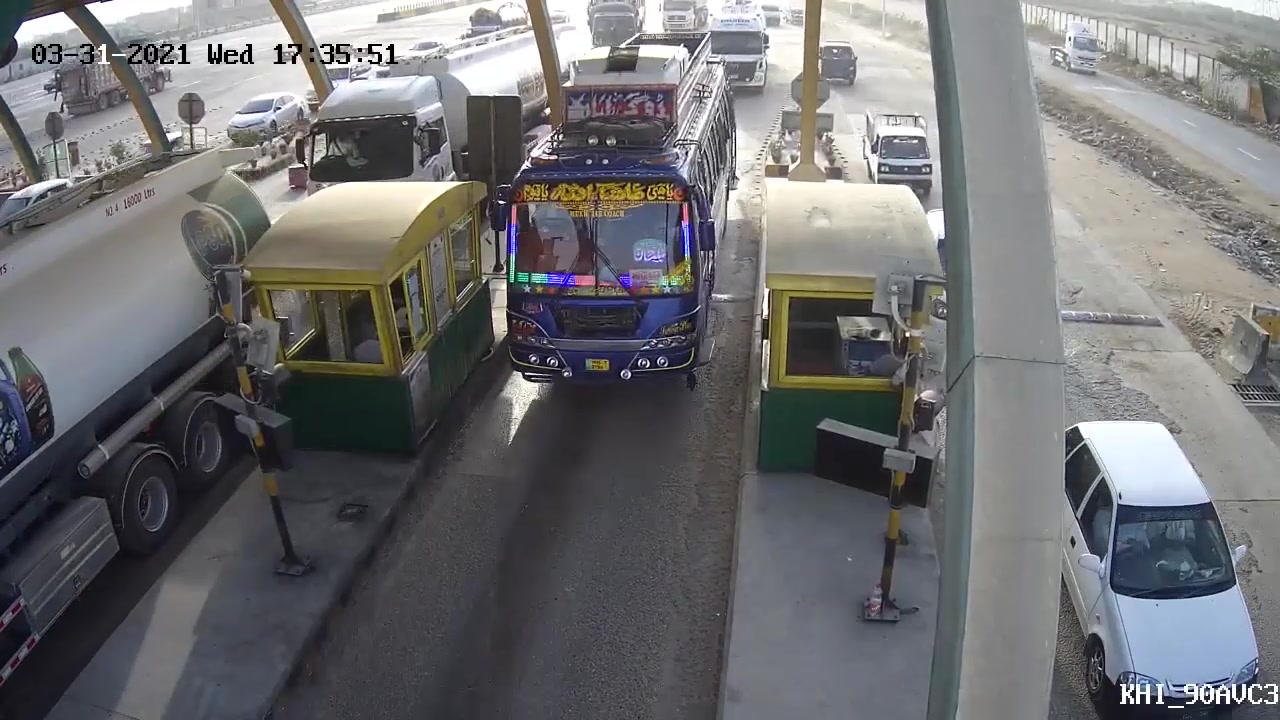F4: (487, 36, 741, 399)
